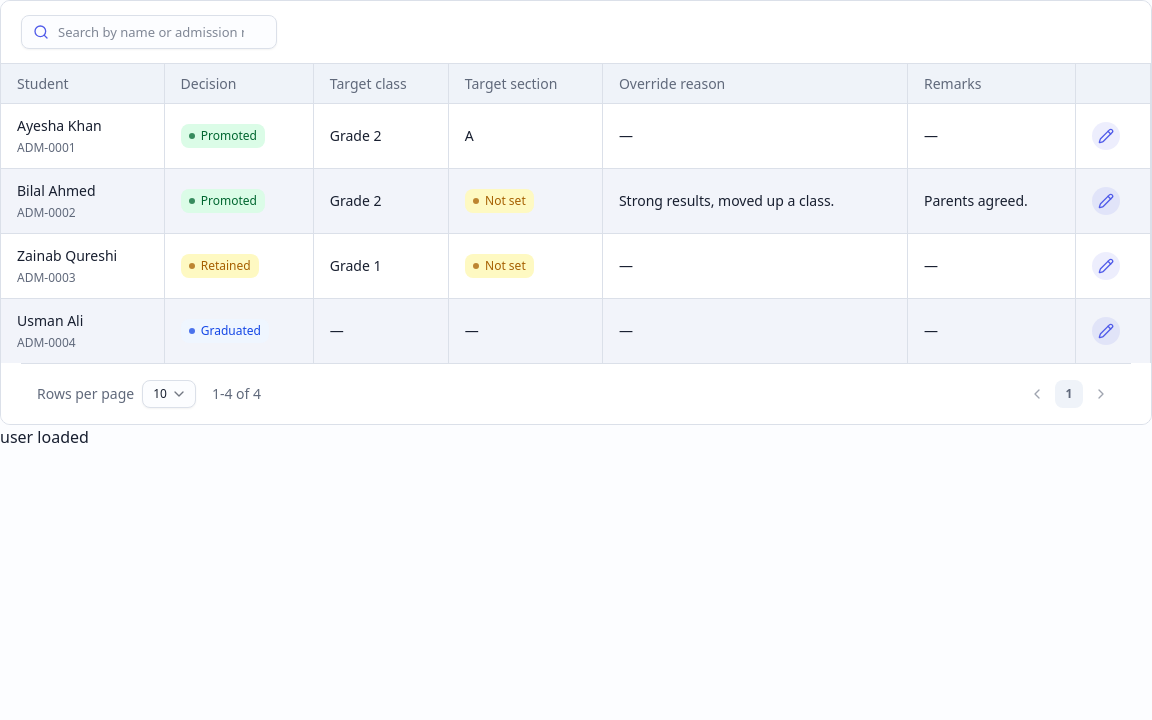
it: PromotionDecisionTable › Edit › opens the editor for that student, and closes it again
Expected: the text "user loaded" is shown, left=0, top=426, right=89, bottom=448
Click the button named "Edit decision for Bilal Ahmed" at (1106, 201), box left=1092, top=187, right=1120, bottom=215
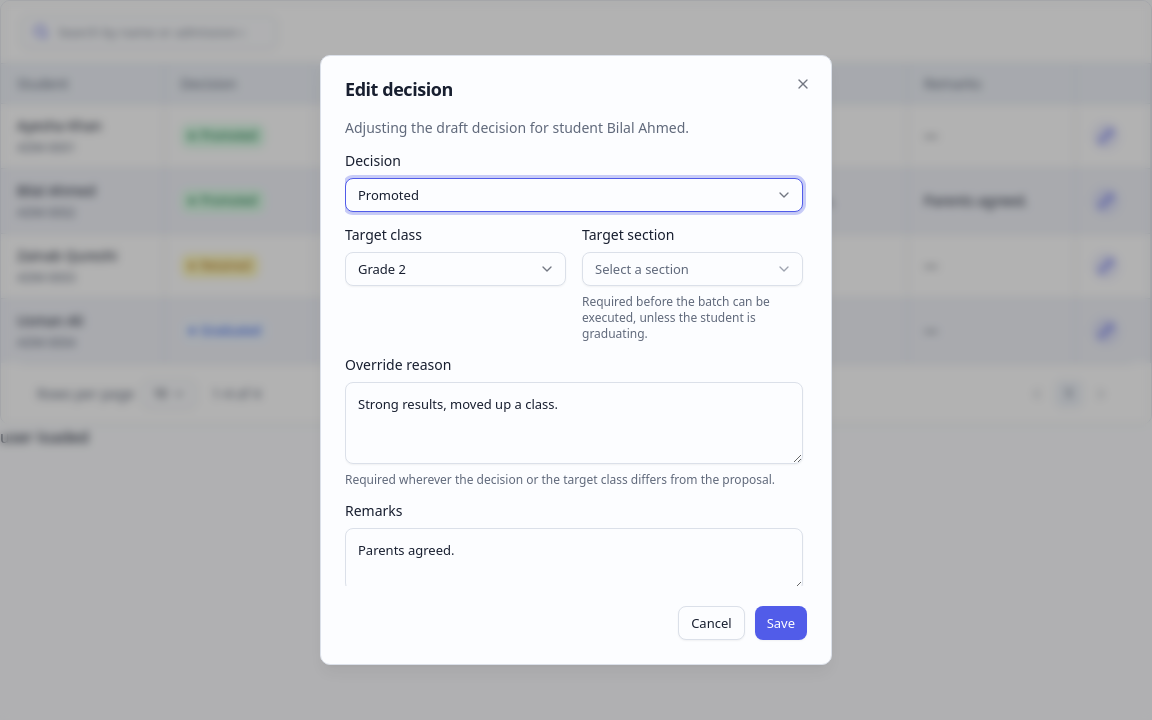
Now the dialog "Edit decision" shows "Adjusting the draft decision for student Bilal Ahmed.", box left=345, top=118, right=689, bottom=137
Click the button "Cancel" at (711, 623), box left=678, top=606, right=745, bottom=640
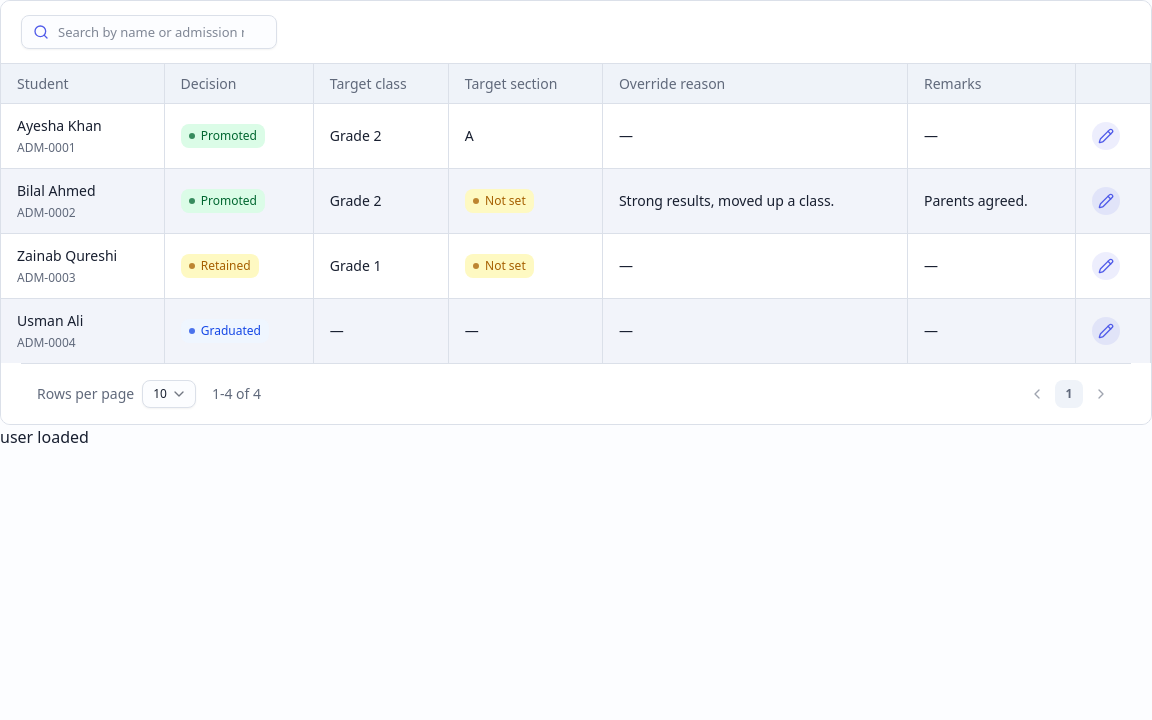
Now the dialog is gone
